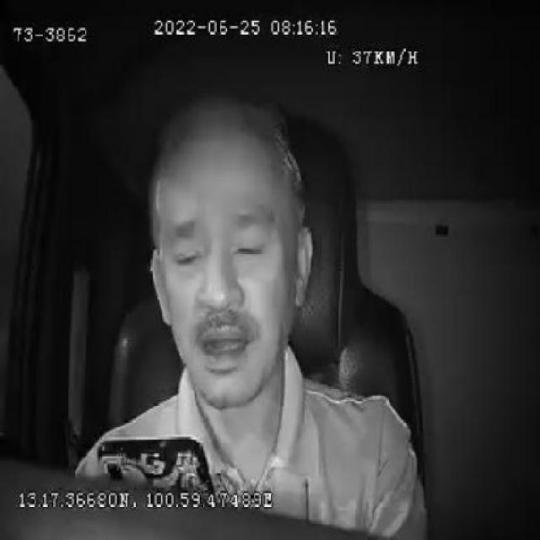phone: (98, 434, 218, 492)
